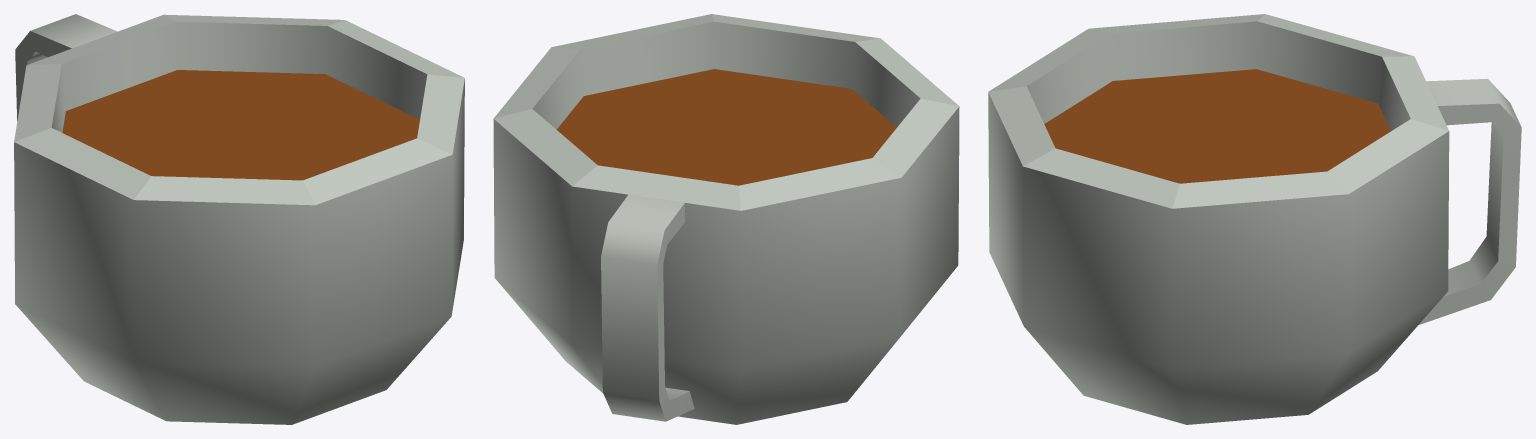
The model's file is Mug_2_A.fbx.
The picture shows the model from 3 angles, left to right: view 1: azimuth 30°, elevation 25°; view 2: azimuth 150°, elevation 25°; view 3: azimuth 270°, elevation 25°; orthographic projection.
Parts seen in each view (by area): view 1: Mug_2_A; view 2: Mug_2_A; view 3: Mug_2_A.
Part boxes in pixels (box(x1,y1,x2,y2)): Mug_2_A: box(14, 14, 464, 424); Mug_2_A: box(493, 14, 959, 424); Mug_2_A: box(988, 14, 1521, 424).
Bounding box in the file's own units: 14.83 × 9.06 × 17.16.
